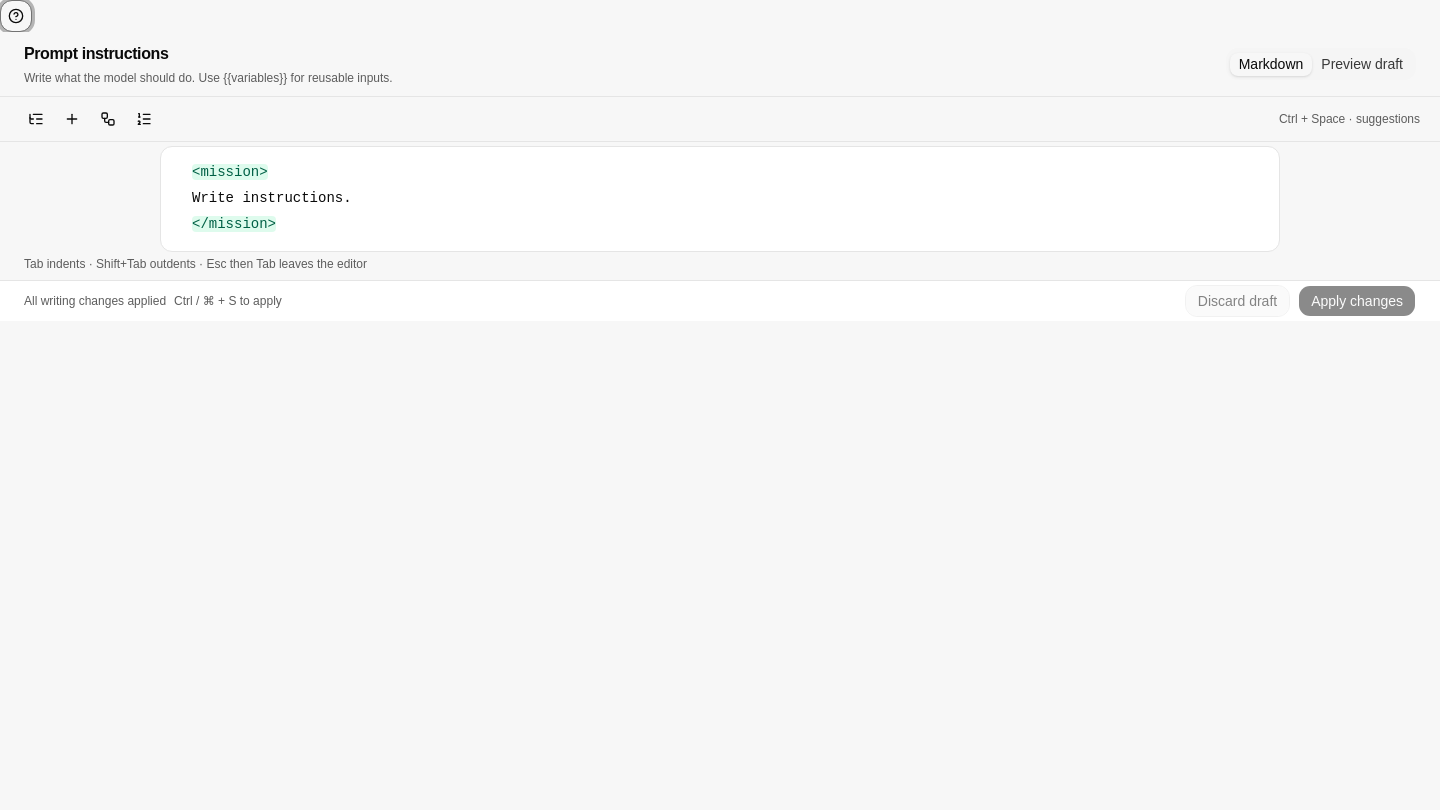
Scenario: keeps the preference off after reopening the app while retaining tooltips
This screenshot has width=1440, height=810.
Later steps or results of the test are not shown.
Press the mouse on the 1st button named "Help" at (16, 16), box left=0, top=0, right=32, bottom=32
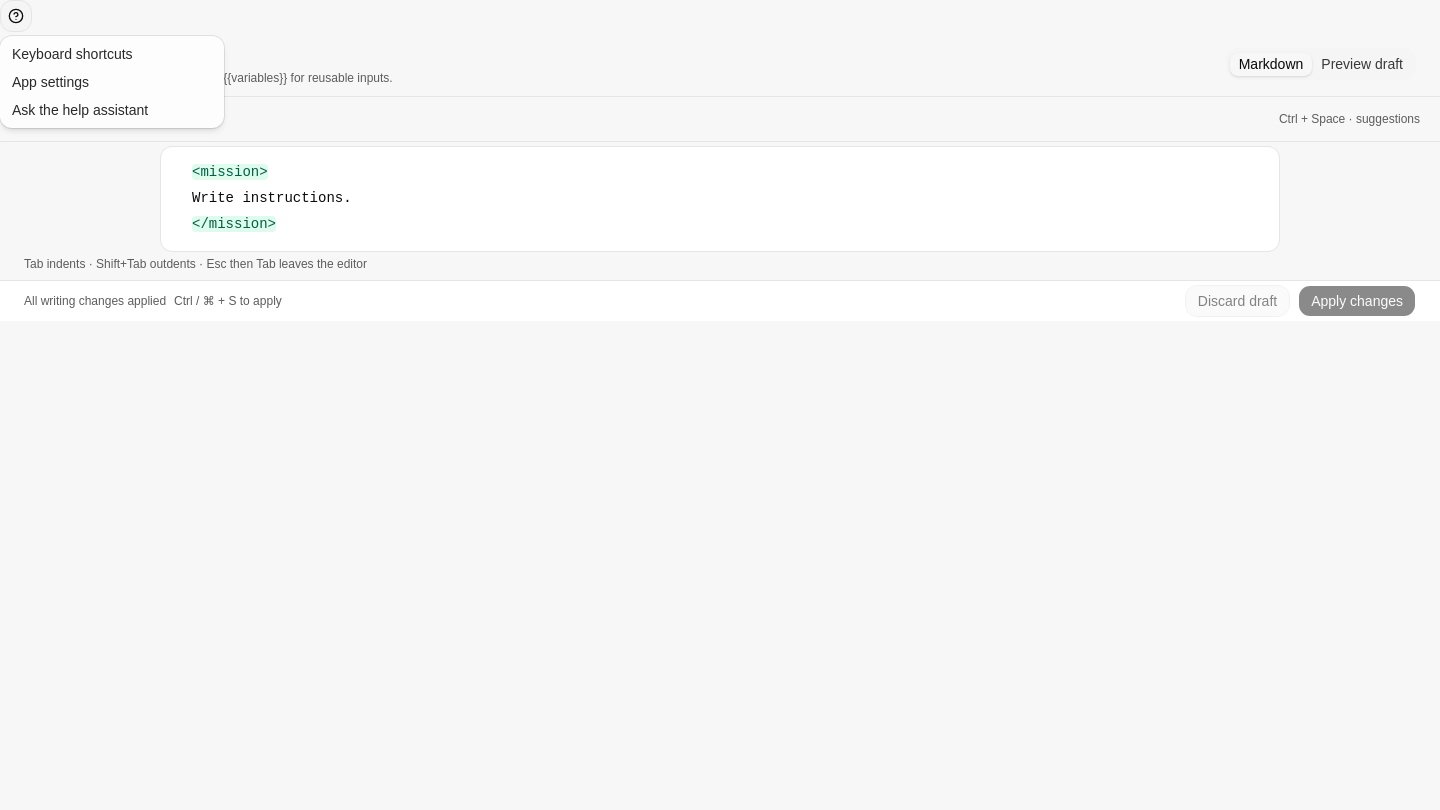
Click the menu item "App settings" at (51, 82), box left=12, top=74, right=89, bottom=90
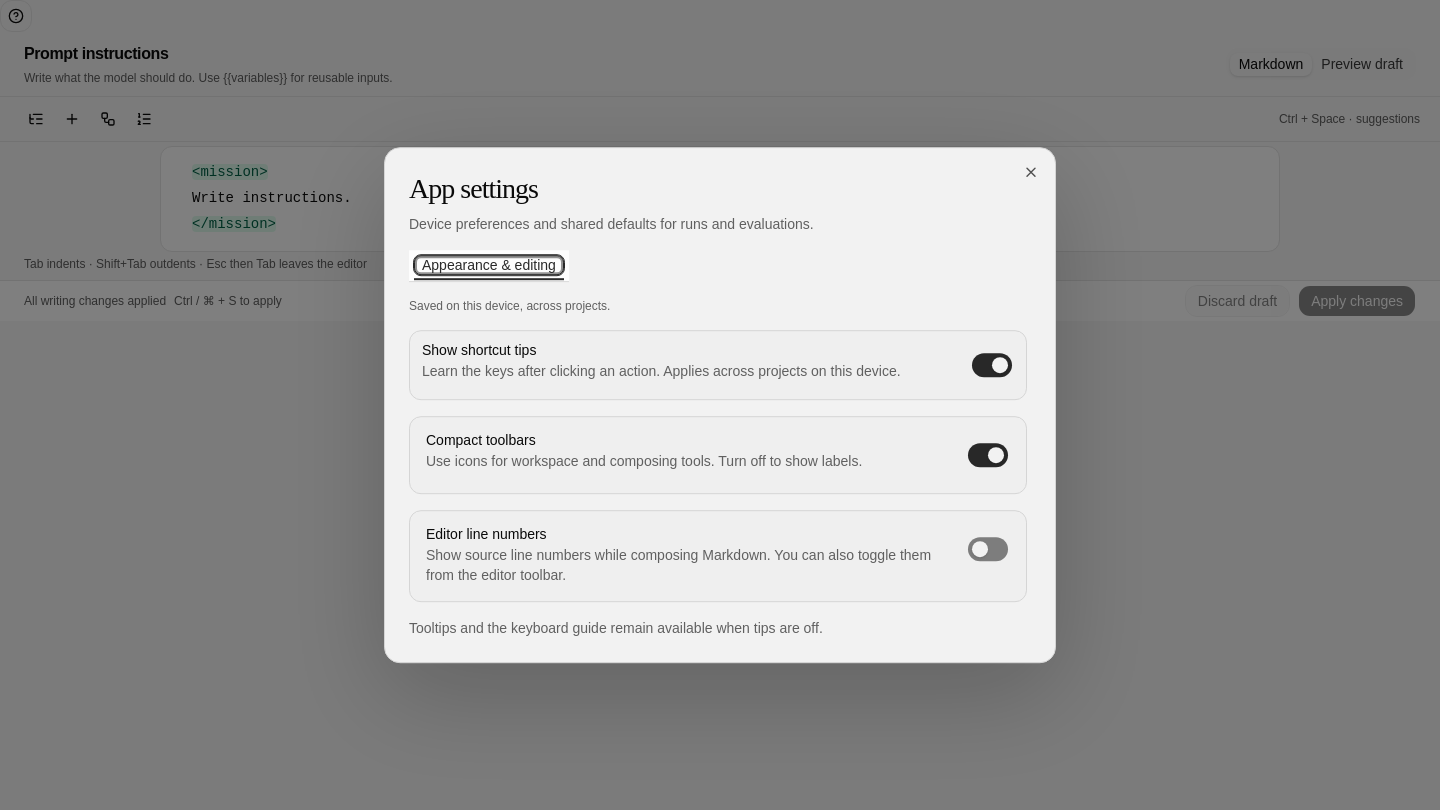
Result: the switch named "Show shortcut tips" in the row of "Show shortcut tips" is checked
Click the switch named "Show shortcut tips" in the row of "Show shortcut tips" at (992, 365), box left=972, top=353, right=1012, bottom=377
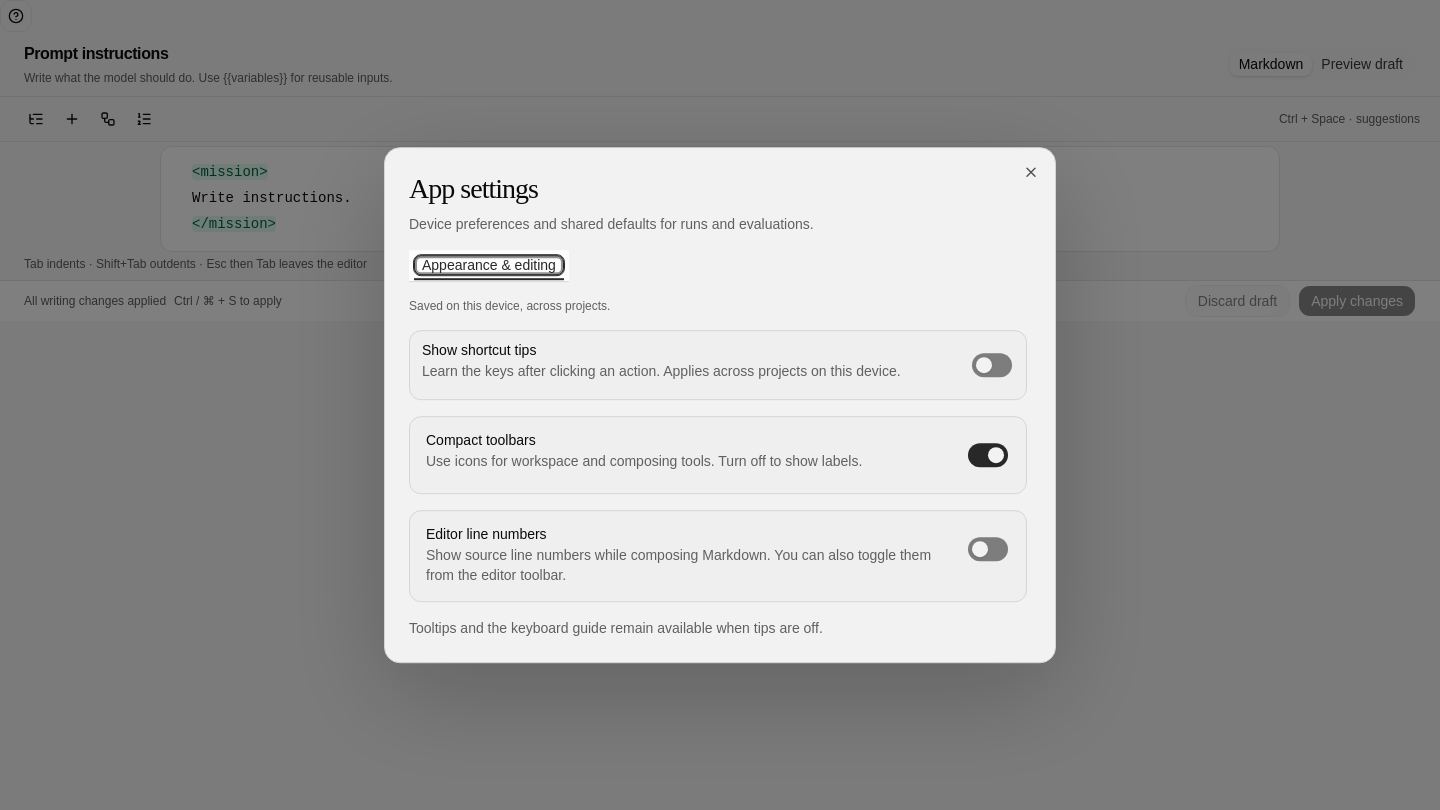
Result: the switch named "Show shortcut tips" in the row of "Show shortcut tips" is not checked at left=972, top=353, right=1012, bottom=377
